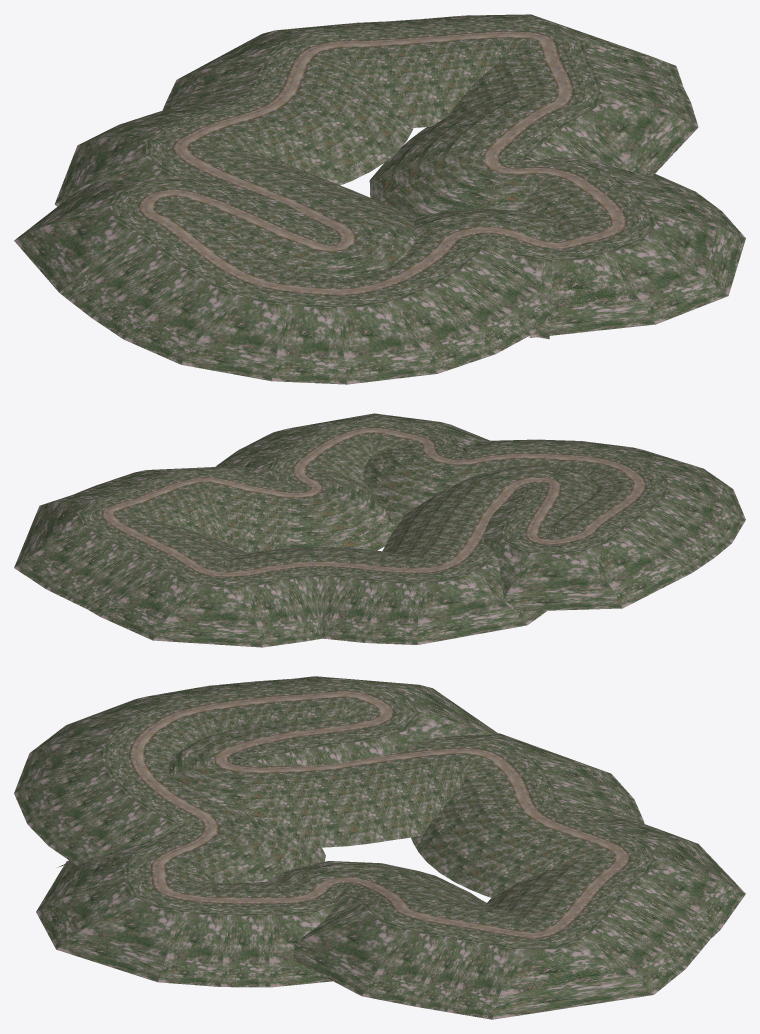
The model's file is track.glb.
The picture shows the model from 3 angles, top to bottom: view 1: azimuth 30°, elevation 25°; view 2: azimuth 150°, elevation 25°; view 3: azimuth 270°, elevation 25°; orthographic projection. The views are drawn at different scales.
Parts seen in each view (by area): view 1: track2; view 2: track2; view 3: track2.
Boxes of the visible parts, x1,y1,x2,y2 form: track2: [14, 14, 745, 384]; track2: [14, 413, 745, 647]; track2: [14, 676, 745, 1019].
Size of the model in its own units: 348 by 33.41 by 332.
Materials: 1 (1 with a texture image).
